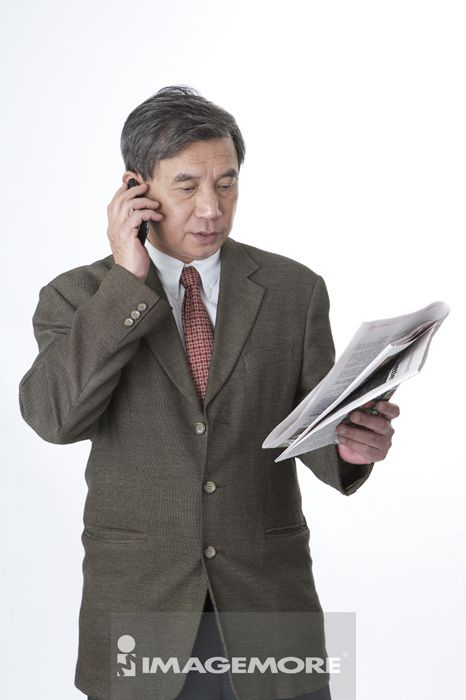phone: (123, 179, 150, 248)
talk: (103, 157, 238, 280)
